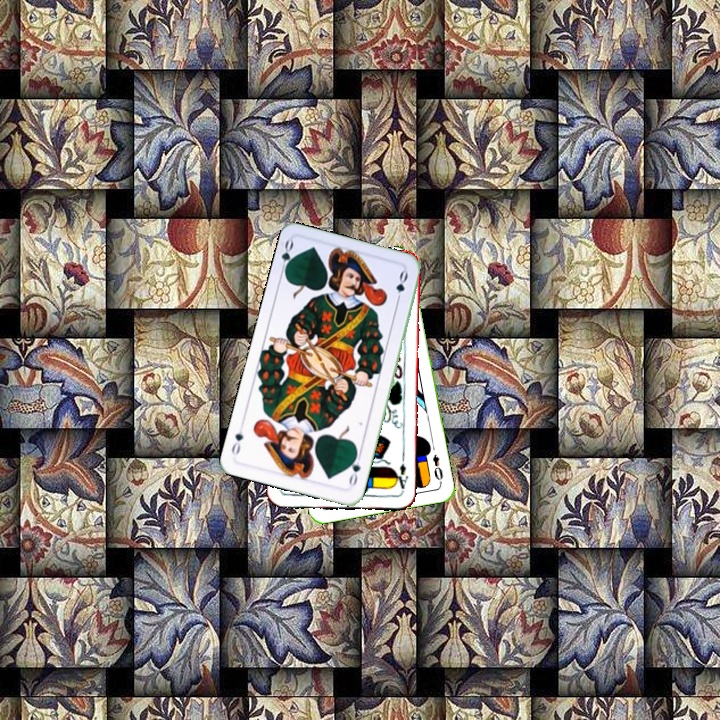EA: (391, 459, 411, 493)
EO: (429, 450, 446, 486)
GO: (276, 236, 298, 277), (345, 450, 364, 488)
